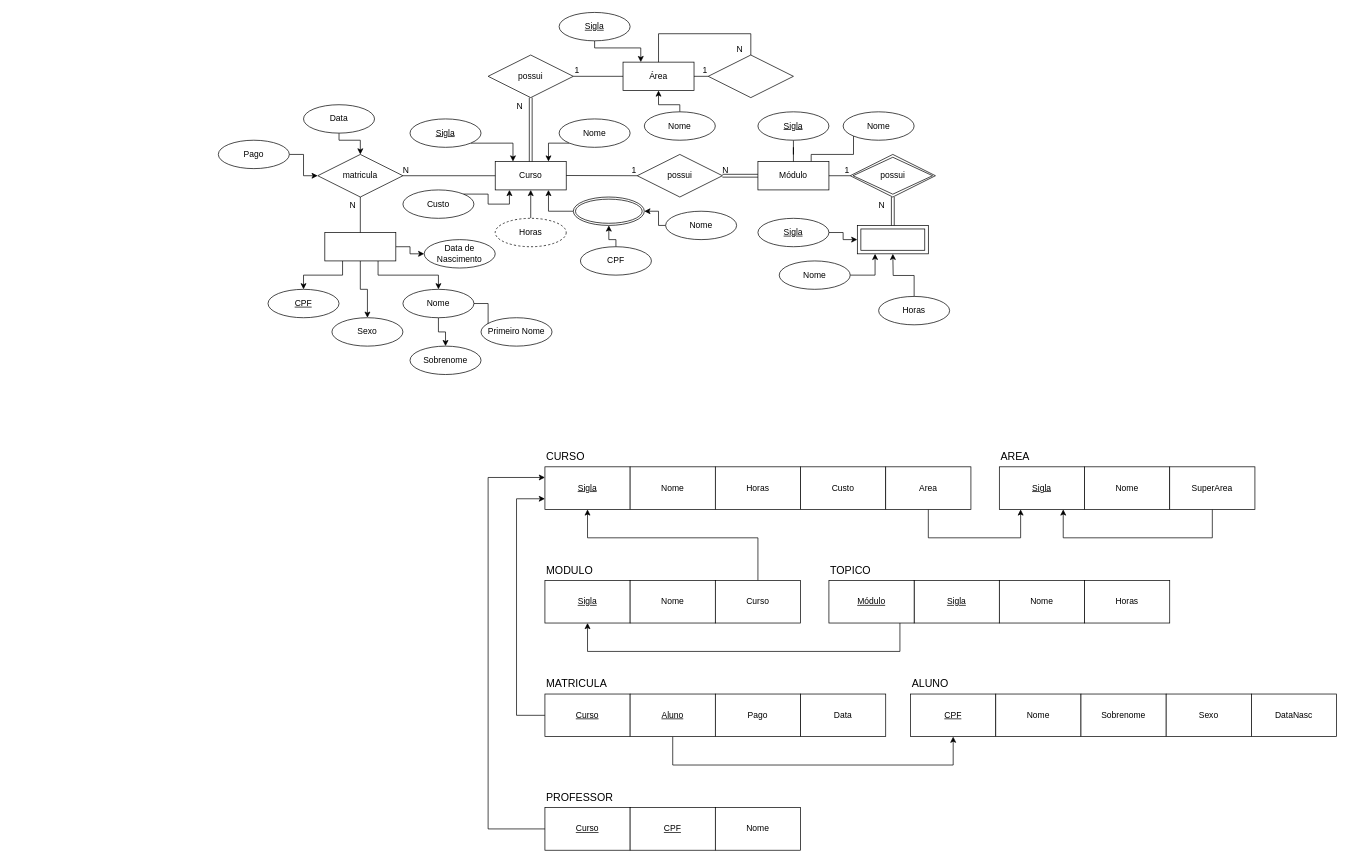
This 1349x863 diagram has some shape labels left out. Each missing label, with the box of its shape:
Alunos: (324, 232, 396, 261)
integra: (708, 54, 793, 98)
Professores: (573, 196, 644, 225)
Tópico: (857, 225, 928, 254)
